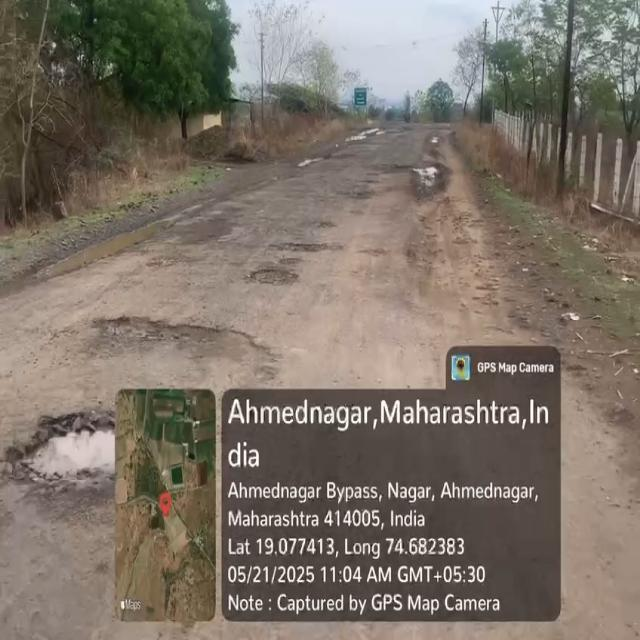pothole: (70, 312, 300, 372), (38, 208, 175, 278), (13, 407, 112, 492), (407, 158, 452, 198), (244, 263, 306, 290), (280, 233, 342, 257)
